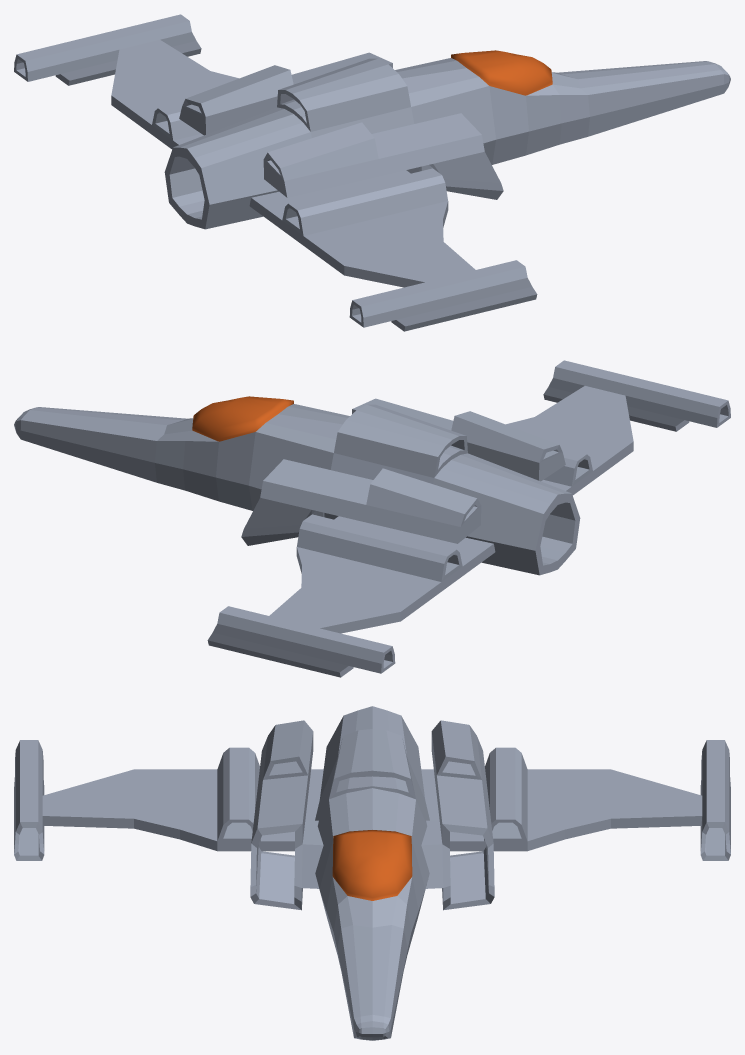
File: ship.obj
3 views of the same model, one above another, from view 1: azimuth 30°, elevation 25°; view 2: azimuth 150°, elevation 25°; view 3: azimuth 270°, elevation 25° (orthographic). The views are drawn at different scales.
Bounding box in the file's own units: 3.6 × 0.7265 × 4.06.
